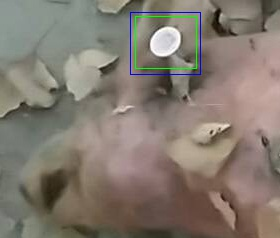text: (135, 16, 196, 68)
